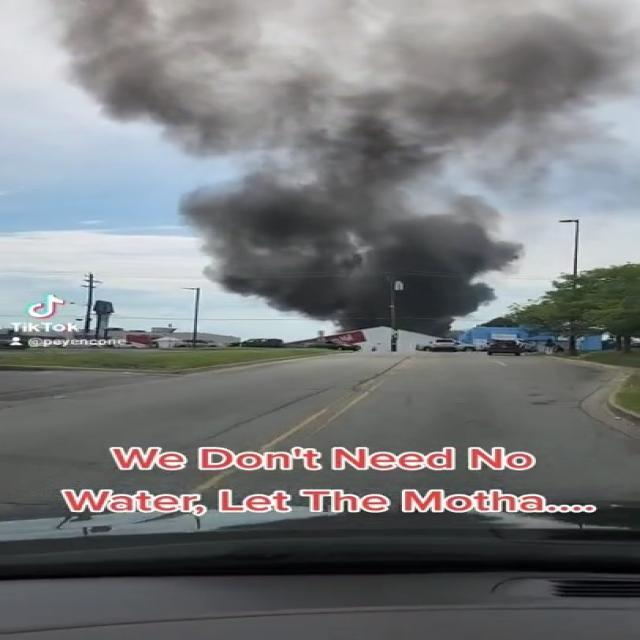Smoke: (206, 174, 521, 334)
